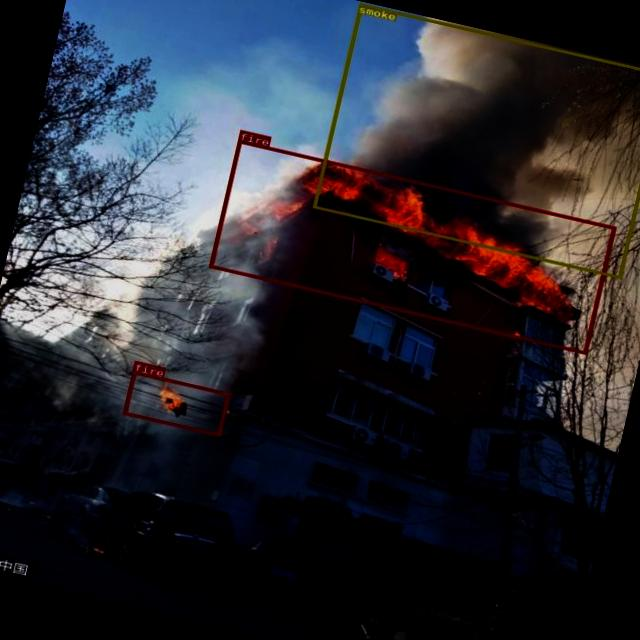fire: (208, 138, 615, 354), (121, 369, 230, 436)
smoke: (311, 2, 640, 278)
